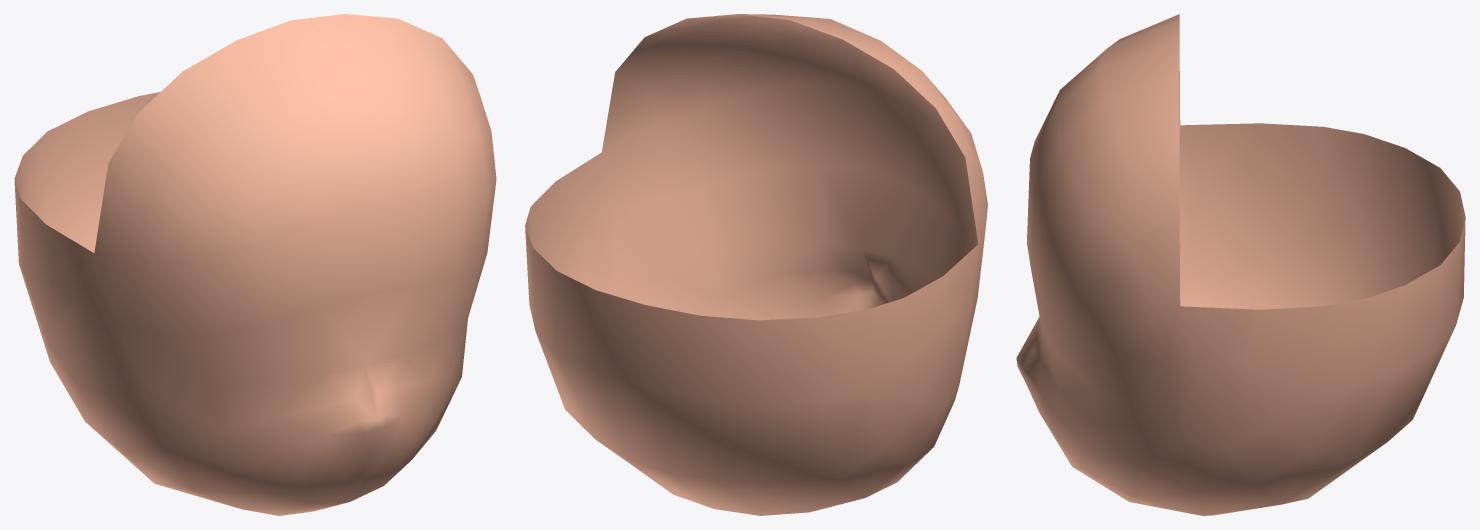
3 renders of one model, left to right at view 1: azimuth 30°, elevation 25°; view 2: azimuth 150°, elevation 25°; view 3: azimuth 270°, elevation 25°, orthographic. The views are drawn at different scales.
Parts seen in each view (by area): view 1: AF_M_Face_06; view 2: AF_M_Face_06; view 3: AF_M_Face_06.
Boxes of the visible parts, box(x1,y1,x2,y2) form: AF_M_Face_06: box(14, 14, 496, 515); AF_M_Face_06: box(525, 14, 987, 515); AF_M_Face_06: box(1016, 14, 1465, 515).
Bounding box in the file's own units: 655 × 731 × 661.
Materials: 1 (1 with a texture image).
